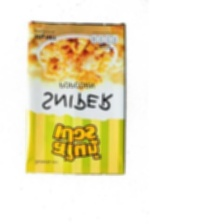snack: (15, 14, 134, 182)
